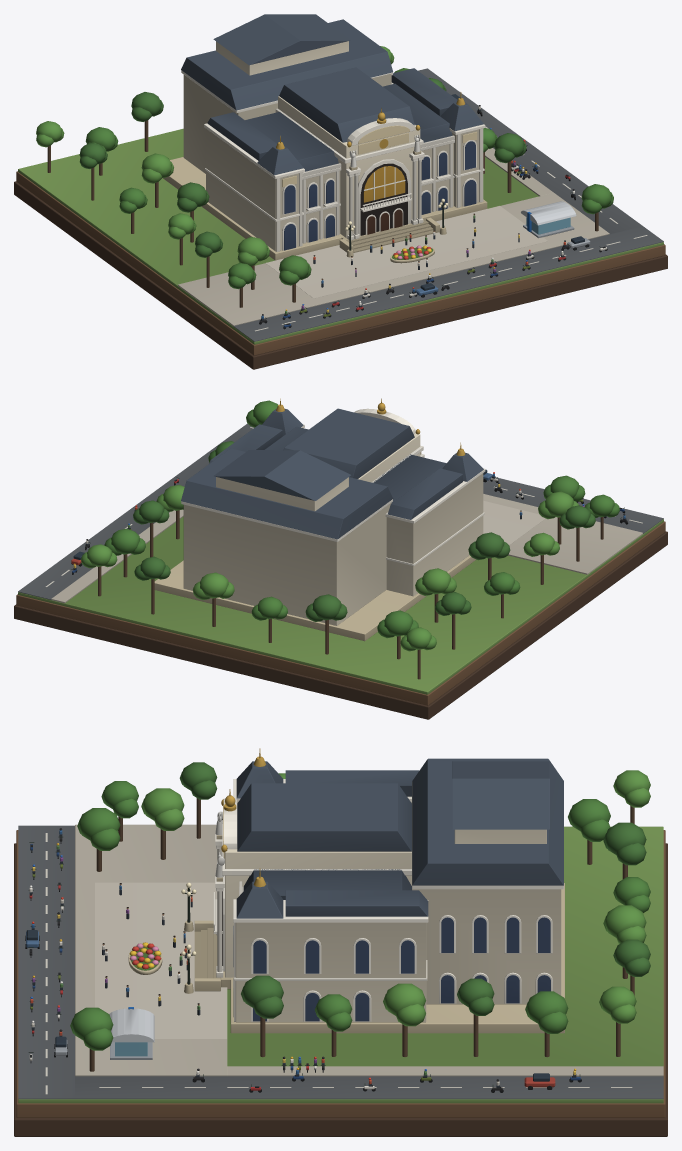
File: nha-hat-thanh-pho.glb
The picture shows the model from 3 angles, top to bottom: view 1: azimuth 30°, elevation 25°; view 2: azimuth 150°, elevation 25°; view 3: azimuth 270°, elevation 25°; orthographic projection. The views are drawn at different scales.
Parts seen in each view (by area): view 1: OH_arch_frame; view 2: OH_arch_frame; view 3: OH_arch_frame.
Boxes of the visible parts, x1,y1,x2,y2 form: OH_arch_frame: (14,14,667,369); OH_arch_frame: (14,398,667,719); OH_arch_frame: (14,748,667,1136).
Bounding box in the file's own units: 92 × 34.2 × 92.
1 material, 1 textured.
